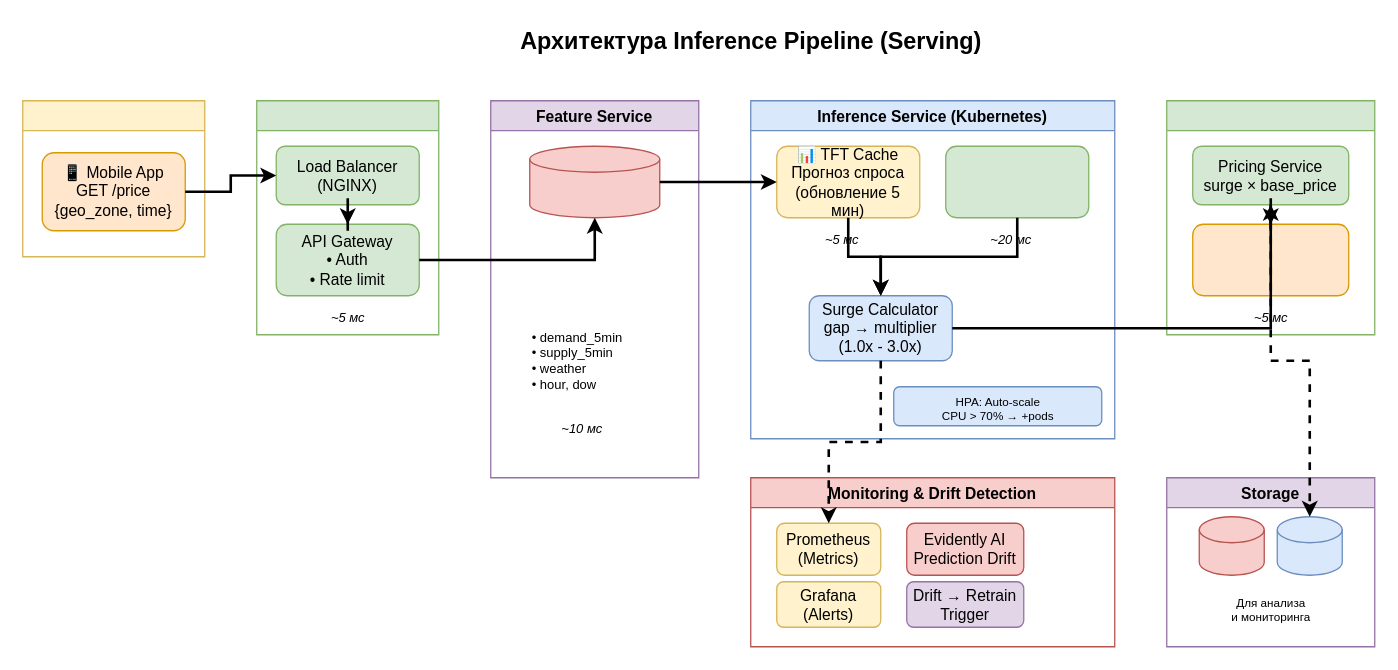
Some shapes in this 1398 by 670 pixel diagram are drawn without their labels. The shapes that lost their labels are listed below. From the top down, each one's box as (x1, y1, x2, y2) in pixels, then its label:
(21, 99, 205, 257): Запрос
(528, 145, 660, 218): 🔴 Redis Online Features
(944, 145, 1089, 218): ⚡ LightGBM Real-time коррекция (ONNX format)
(255, 99, 439, 335): Вход
(1165, 99, 1375, 335): Ответ
(1191, 223, 1349, 296): 📲 Response {price, surge, eta}
(1198, 515, 1264, 575): Redis Cache (TTL 30 сек)
(1276, 515, 1342, 575): PostgreSQL (История)
